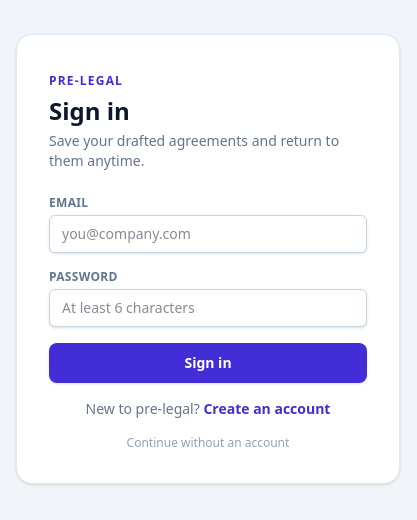
Scenario: LoginPage › shows an error when authentication fails
The width and height of the screenshot is (417, 520).
Type "a@b.com" into the field named "Email" at (208, 234), box [49,215,367,253]
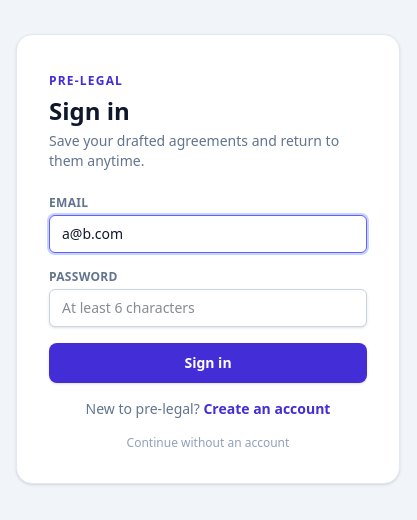
Type "wrongpw" into the password field named "Password" at (208, 308), box [49,289,367,327]
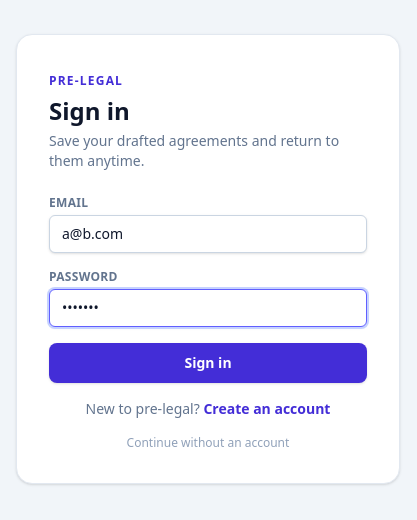
Click the button "Sign in" at (208, 363), box [49,343,367,383]
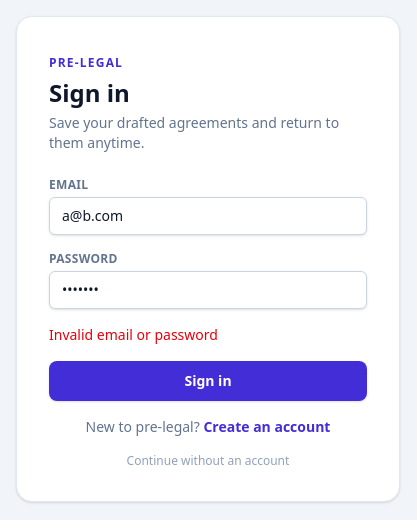
Expected: the message reads "Invalid email or password", [49,325,218,344]
